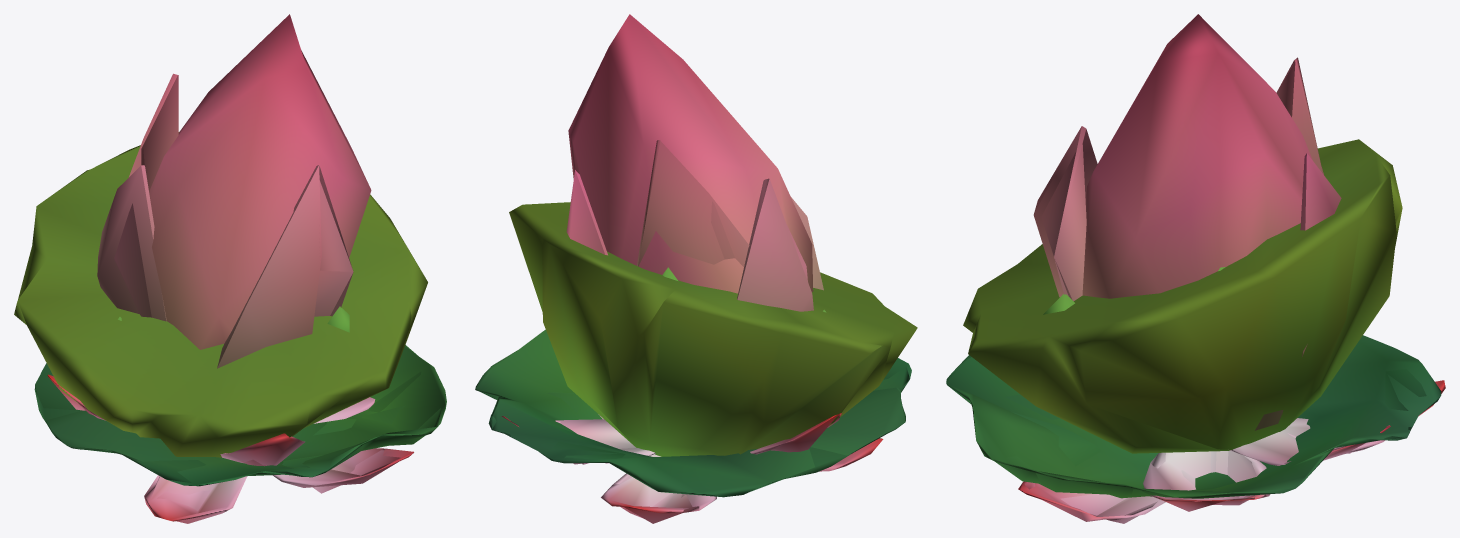
File: sen-ho-nhe.glb
3 renders of one model, left to right at view 1: azimuth 30°, elevation 25°; view 2: azimuth 150°, elevation 25°; view 3: azimuth 270°, elevation 25°, orthographic. The views are drawn at different scales.
Visible parts, largest first — view 1: nu, dai, la, hoa; view 2: dai, nu, la, hoa; view 3: dai, nu, la, hoa.
Boxes of the visible parts, box(x1,y1,x2,y2) form: nu: box(97, 14, 371, 368); dai: box(14, 132, 427, 457); la: box(34, 345, 446, 486); hoa: box(47, 374, 413, 523); dai: box(509, 202, 917, 456); nu: box(566, 14, 823, 311); la: box(475, 329, 911, 497); hoa: box(502, 413, 883, 523); dai: box(963, 139, 1402, 453); nu: box(1033, 14, 1341, 430); la: box(946, 335, 1441, 498); hoa: box(1018, 380, 1445, 523).
Size of the model in its own units: 0.9582 by 1.09 by 0.9671.
